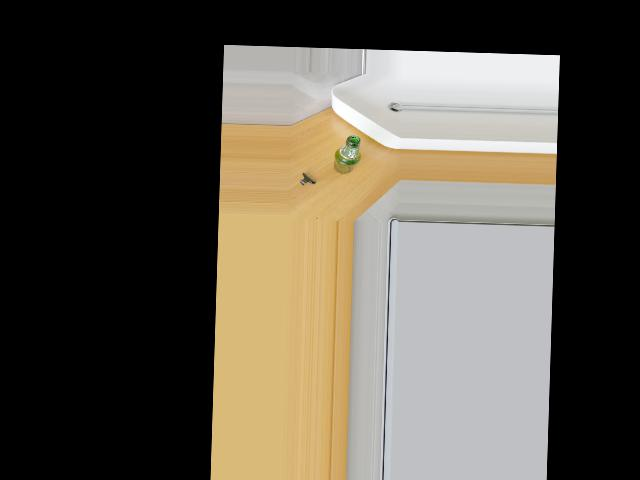beer: (334, 135, 361, 175)
